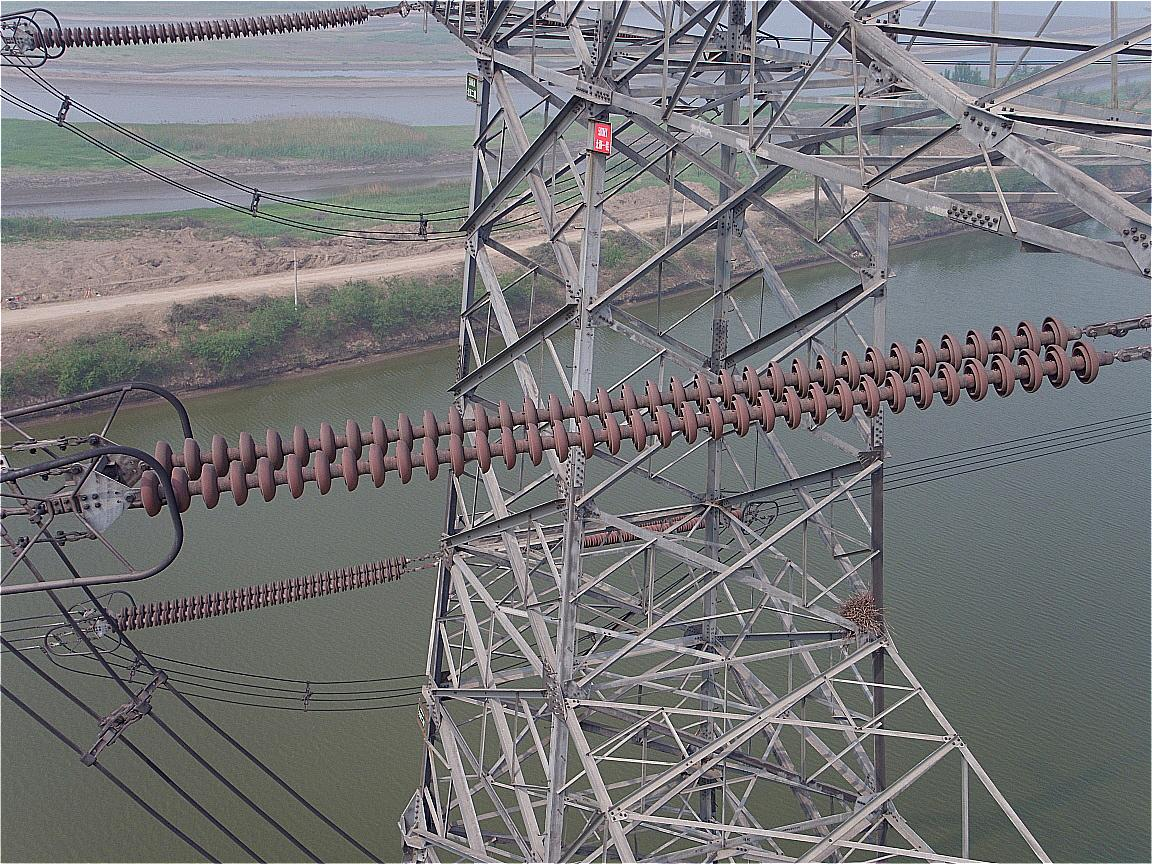insultor1: (139, 317, 1100, 519)
insultor2: (115, 551, 409, 633), (34, 3, 372, 49), (584, 515, 711, 554)
